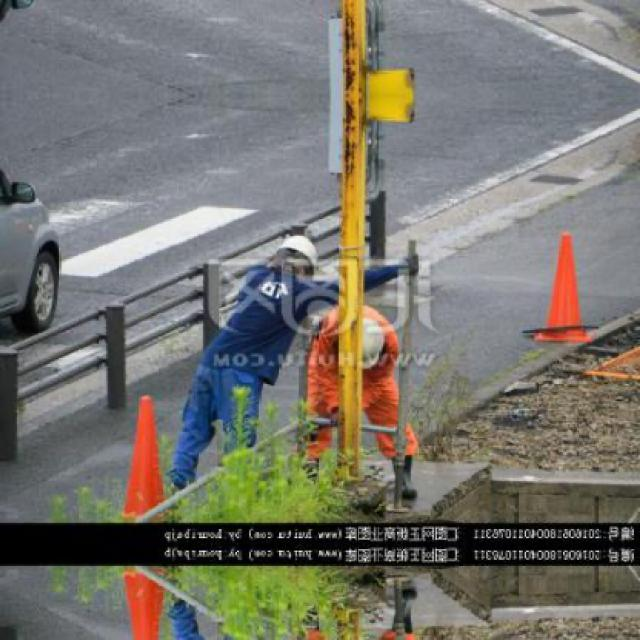con casco: (318, 298, 393, 382), (241, 228, 320, 301)
